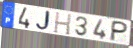3: (74, 16, 89, 37)
4: (93, 18, 108, 41), (18, 7, 32, 31)
H: (53, 11, 73, 37)
J: (35, 10, 53, 32)
P: (109, 20, 130, 43)
